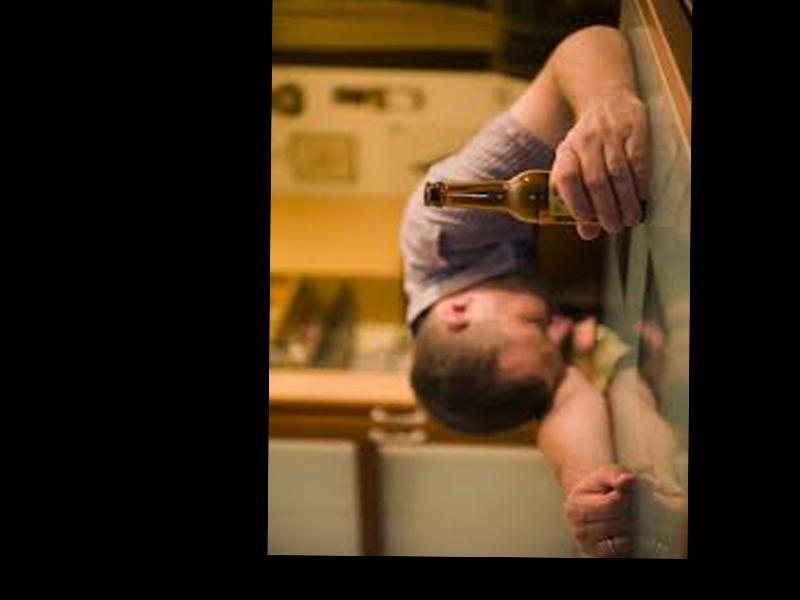Beer: (422, 171, 647, 222)
